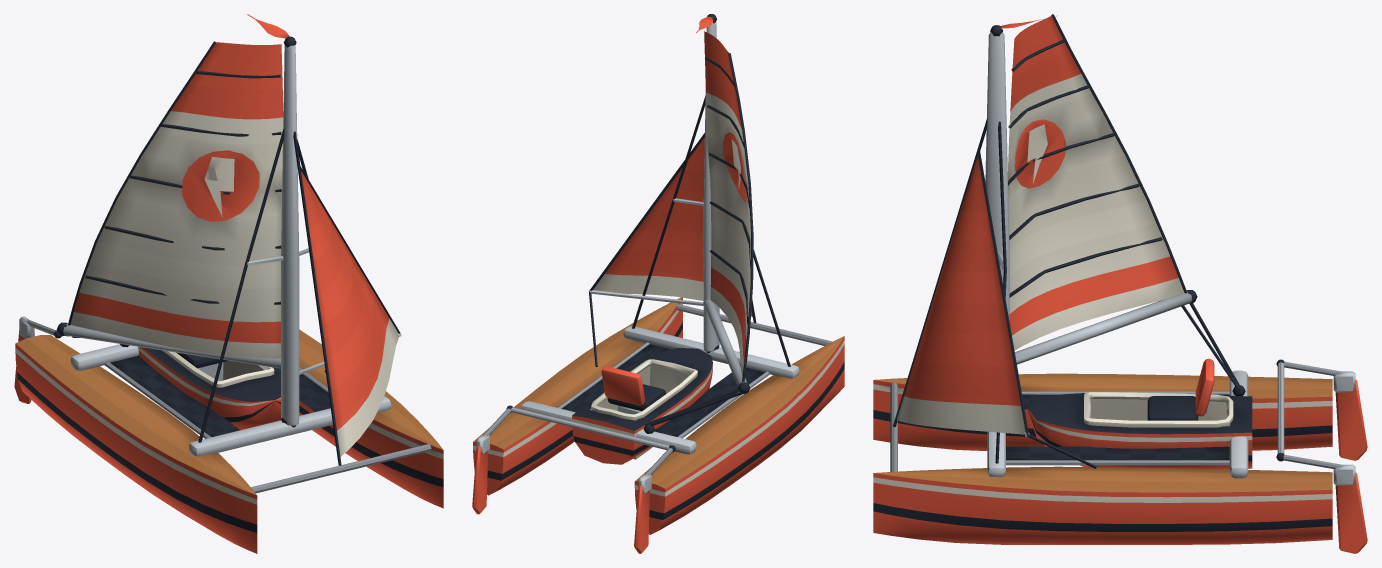
Rendered from sail-catamaran.glb.
The picture shows the model from 3 angles, left to right: view 1: azimuth 30°, elevation 25°; view 2: azimuth 150°, elevation 25°; view 3: azimuth 270°, elevation 25°; orthographic projection. The views are drawn at different scales.
Visible parts, largest first — view 1: Swift catamaran Sail ivory, Swift catamaran Swift coral, Swift catamaran Mast alloy, Swift catamaran Deck teak, Swift catamaran Deck charcoal, Swift catamaran Rigging line; view 2: Swift catamaran Swift coral, Swift catamaran Sail ivory, Swift catamaran Deck teak, Swift catamaran Mast alloy, Swift catamaran Deck charcoal, Swift catamaran Rigging line; view 3: Swift catamaran Swift coral, Swift catamaran Sail ivory, Swift catamaran Deck teak, Swift catamaran Mast alloy, Swift catamaran Deck charcoal, Swift catamaran Rigging line.
Part boxes in pixels (x1,y1,x2,y2): Swift catamaran Sail ivory: (70, 42, 283, 387); Swift catamaran Swift coral: (14, 14, 443, 553); Swift catamaran Mast alloy: (19, 45, 431, 493); Swift catamaran Deck teak: (15, 329, 442, 495); Swift catamaran Deck charcoal: (54, 36, 400, 436); Swift catamaran Rigging line: (66, 128, 341, 465); Swift catamaran Swift coral: (472, 16, 844, 553); Swift catamaran Sail ivory: (590, 31, 750, 459); Swift catamaran Deck teak: (473, 297, 844, 488); Swift catamaran Mast alloy: (476, 21, 833, 494); Swift catamaran Deck charcoal: (506, 14, 764, 452); Swift catamaran Rigging line: (589, 95, 790, 426); Swift catamaran Swift coral: (873, 15, 1367, 553); Swift catamaran Sail ivory: (1008, 15, 1233, 427); Swift catamaran Deck teak: (874, 373, 1332, 492); Swift catamaran Mast alloy: (890, 32, 1355, 485); Swift catamaran Deck charcoal: (977, 14, 1284, 461); Swift catamaran Rigging line: (893, 119, 1240, 468).
Bounding box in the file's own units: 2.82 × 4.86 × 4.49.
